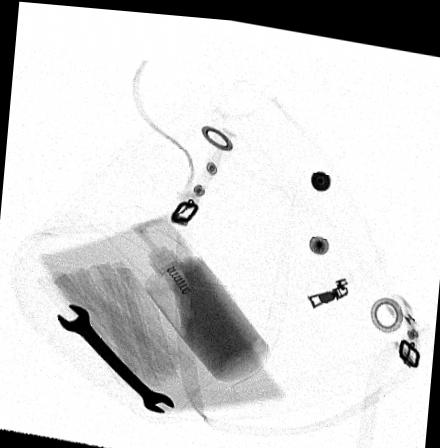Wrench: (56, 302, 176, 411)
